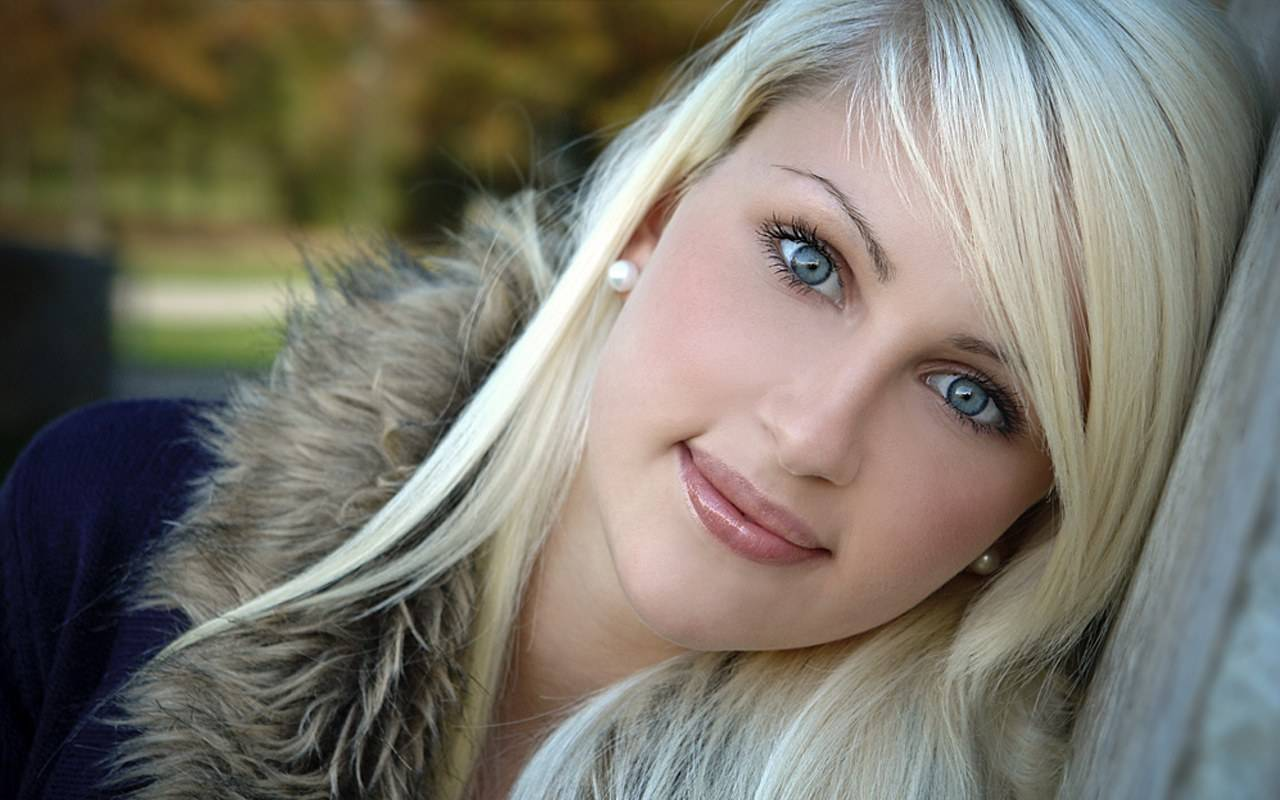person: (403, 1, 1119, 609)
